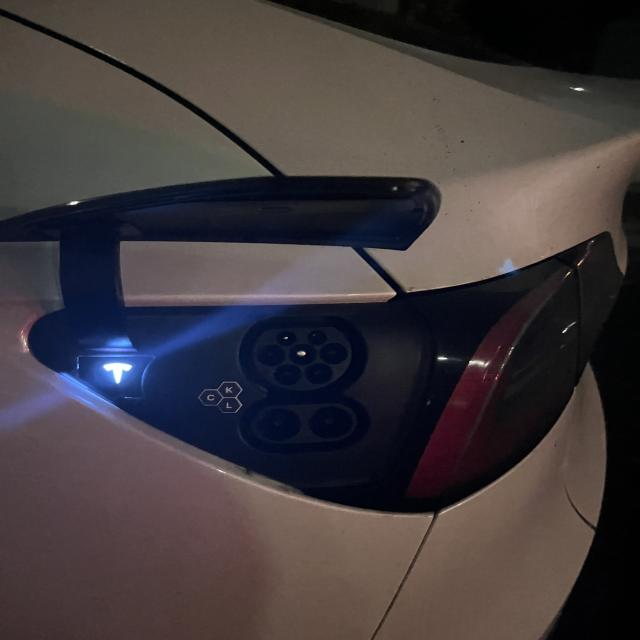inlet: (252, 326, 352, 391)
inlet-above-left: (276, 331, 297, 345)
inlet-above-right: (307, 330, 327, 344)
inlet-below-left: (275, 365, 302, 385)
inlet-below-right: (305, 363, 332, 384)
inlet-circle: (290, 343, 317, 365)
inlet-circle-left: (258, 345, 285, 365)
inlet-circle-right: (321, 343, 347, 364)
inlet-minus: (308, 406, 353, 438)
inlet-plus: (257, 409, 302, 441)
